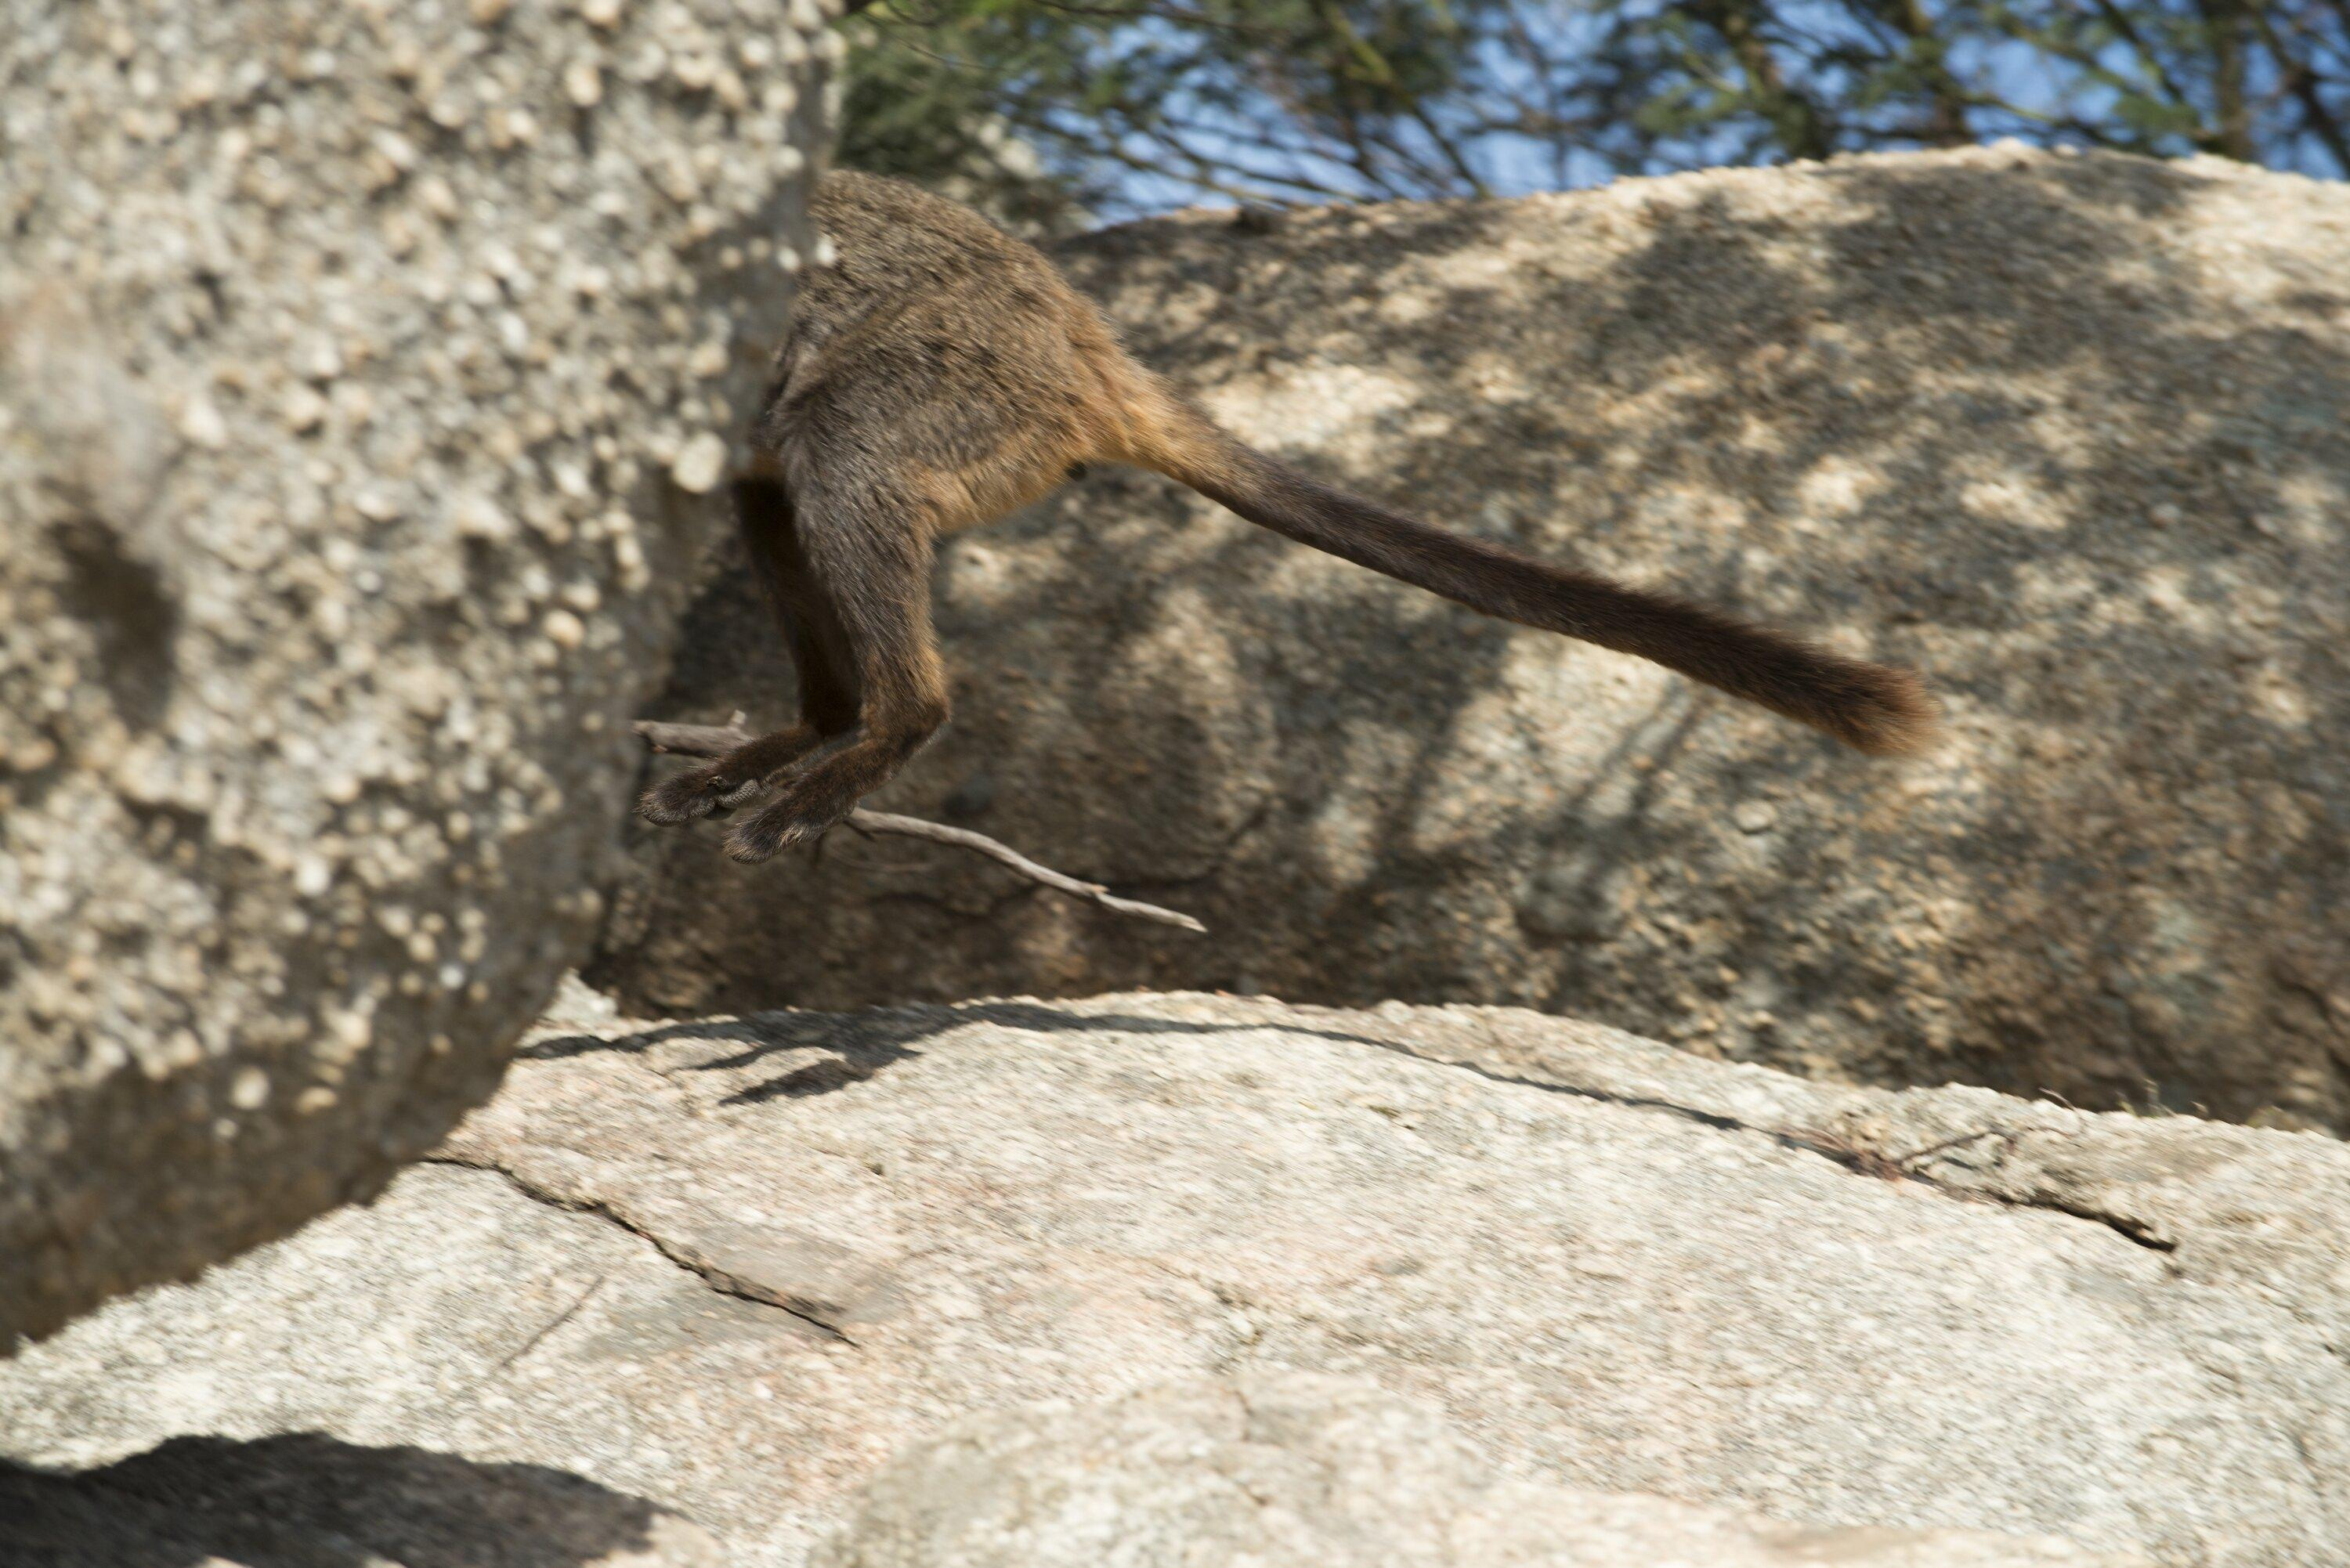Brush-tailed rock-wallaby: (647, 170, 1937, 875)
